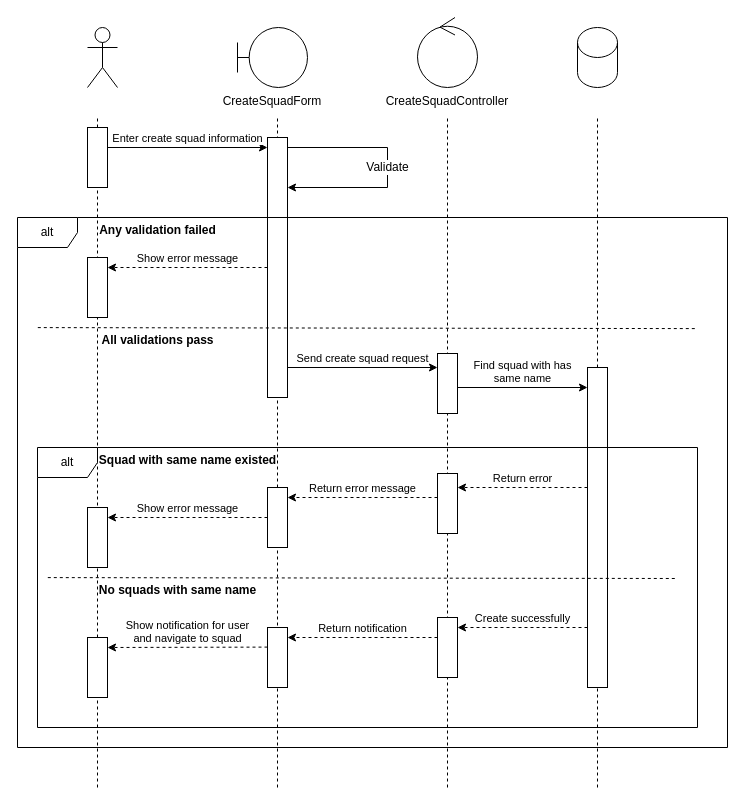
Some shapes in this 745 by 806 pixel diagram are drawn without their labels. Here are the shapes that lost their labels. From the top down, the box of each, then its label:
(86, 26, 118, 88): User
(576, 26, 618, 88): Squad Database
